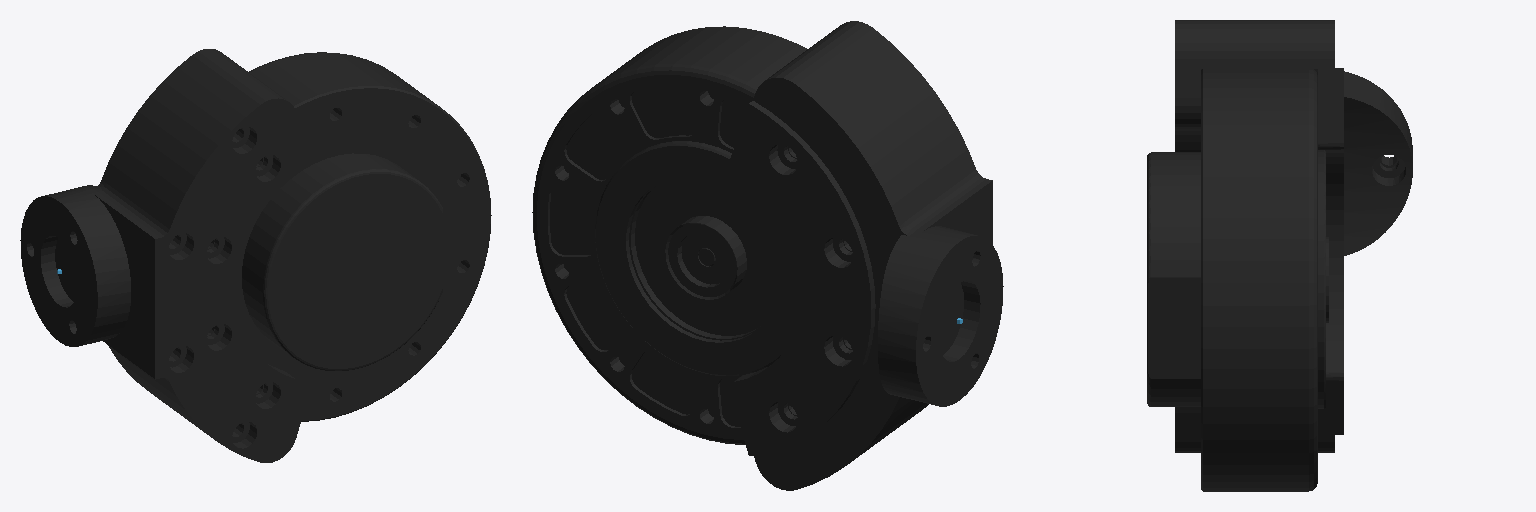
robot.urdf — single_leg:
<?xml version="1.0" ?>
<robot name="single_leg">

  <material name="blue">
    <color rgba="0.0 0.5 0.8 0.9"/>
  </material>

  <material name="black1">
    <color rgba="0.2 0.2 0.2 1"/>
  </material>

  <material name="white">
    <color rgba="0.9 0.9 0.9 0.5"/>
  </material>

  <link name="world"/>

  <joint name="fixed" type="fixed">
    <origin rpy="0 0 0" xyz="0 0 0.5"/>
    <parent link="world"/>
    <child link="base"/>
  </joint>

  <link name="base">
    <visual>
      <origin rpy="0 0 0" xyz="0 0 0"/>
      <geometry>
        <box size="0.001 0.001 0.001"/>
      </geometry>
    </visual>
  </link>

  <!--Front Left-->
  <link name="FL_hip">
    <inertial>
      <origin xyz="0.058975220413676505 -0.016130924422260128 -0.00322" rpy="0 0 0"/>
      <mass value = "0.7498"/>
      <inertia ixx = "0.121212" iyy = "0.00108127" izz = "0.000706572" ixy = "3.86383e-05" iyz = "0" ixz = "0"/>
    </inertial>
    <visual>
      <origin xyz="0.0 0.0 0.0" rpy="0 0 0"/>
      <geometry>
        <mesh filename="../meshes/hip_roll_1.stl" scale="0.001 0.001 0.001"/>
      </geometry>
      <material name="black1"/>
    </visual>
<!--    <collision>-->
<!--      <origin xyz="-0.185613 -0.065216 -0.000494" rpy="0 0 0"/>-->
<!--      <geometry>-->
<!--        <mesh filename="../meshes/hip_roll_1.stl" scale="0.001 0.001 0.001"/>-->
<!--      </geometry>-->
<!--    </collision>-->
  </link>

  <!--    joint -->
  <joint name="FL_HIP_ROLL" type="revolute">
    <origin xyz="0.0 0.0 0.0" rpy="0 0 0"/>
    <parent link="base"/>
    <child link="FL_hip"/>
    <axis xyz="1 0 0"/>
  </joint>

</robot>

--- Facts derived from the render (not from the file) ---
The picture shows the robot from 3 angles, left to right: view 1: azimuth 30°, elevation 25°; view 2: azimuth 150°, elevation 25°; view 3: azimuth 270°, elevation 25°; orthographic projection.
Model single_leg with 3 links and 2 joints (1 revolute, 1 fixed), rooted at world, posed all joints at 0.
Links seen in each view (by area): view 1: FL_hip; view 2: FL_hip; view 3: FL_hip.
Boxes of the visible links, box(x1,y1,x2,y2) form: FL_hip: box(20, 49, 491, 462); FL_hip: box(532, 21, 1003, 490); FL_hip: box(1147, 20, 1412, 491).
Size in the robot's own frame: 0.12 by 0.0615 by 0.1088 metres.
1 mesh visuals loaded from 1 distinct referenced files (1 binary STL).